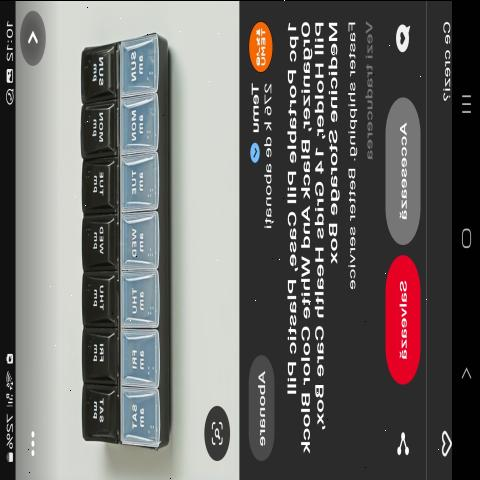PillBox: (70, 22, 184, 464)
